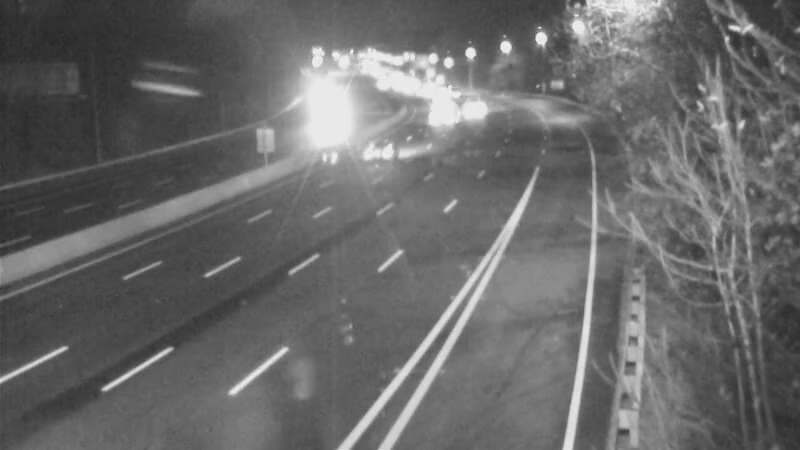vehicle: (343, 114, 423, 194), (417, 80, 467, 130), (452, 82, 502, 132), (421, 95, 471, 145), (307, 106, 357, 156)
